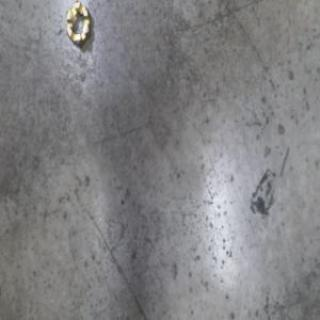Nuttrack_idkeyframe: (64, 2, 93, 49)
